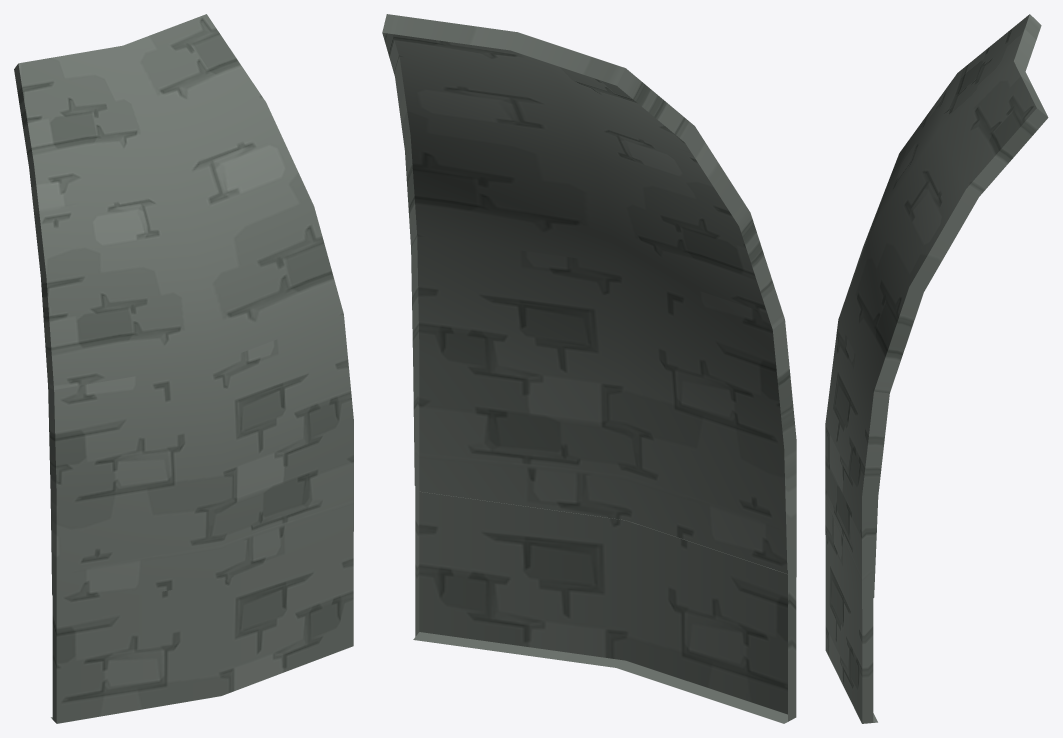
Rendered from SM_Env_Wall_38.fbx.
3 views of the same model, side by side, from view 1: azimuth 30°, elevation 25°; view 2: azimuth 150°, elevation 25°; view 3: azimuth 270°, elevation 25° (orthographic). The views are drawn at different scales.
Parts seen in each view (by area): view 1: SM_Env_Wall_38; view 2: SM_Env_Wall_38; view 3: SM_Env_Wall_38.
Boxes of the visible parts, bbox=[...] form: SM_Env_Wall_38: bbox=[14, 14, 353, 723]; SM_Env_Wall_38: bbox=[382, 14, 796, 723]; SM_Env_Wall_38: bbox=[825, 14, 1048, 723].
Size of the model in its own units: 136 by 250 by 86.35.
1 material, 1 textured.
